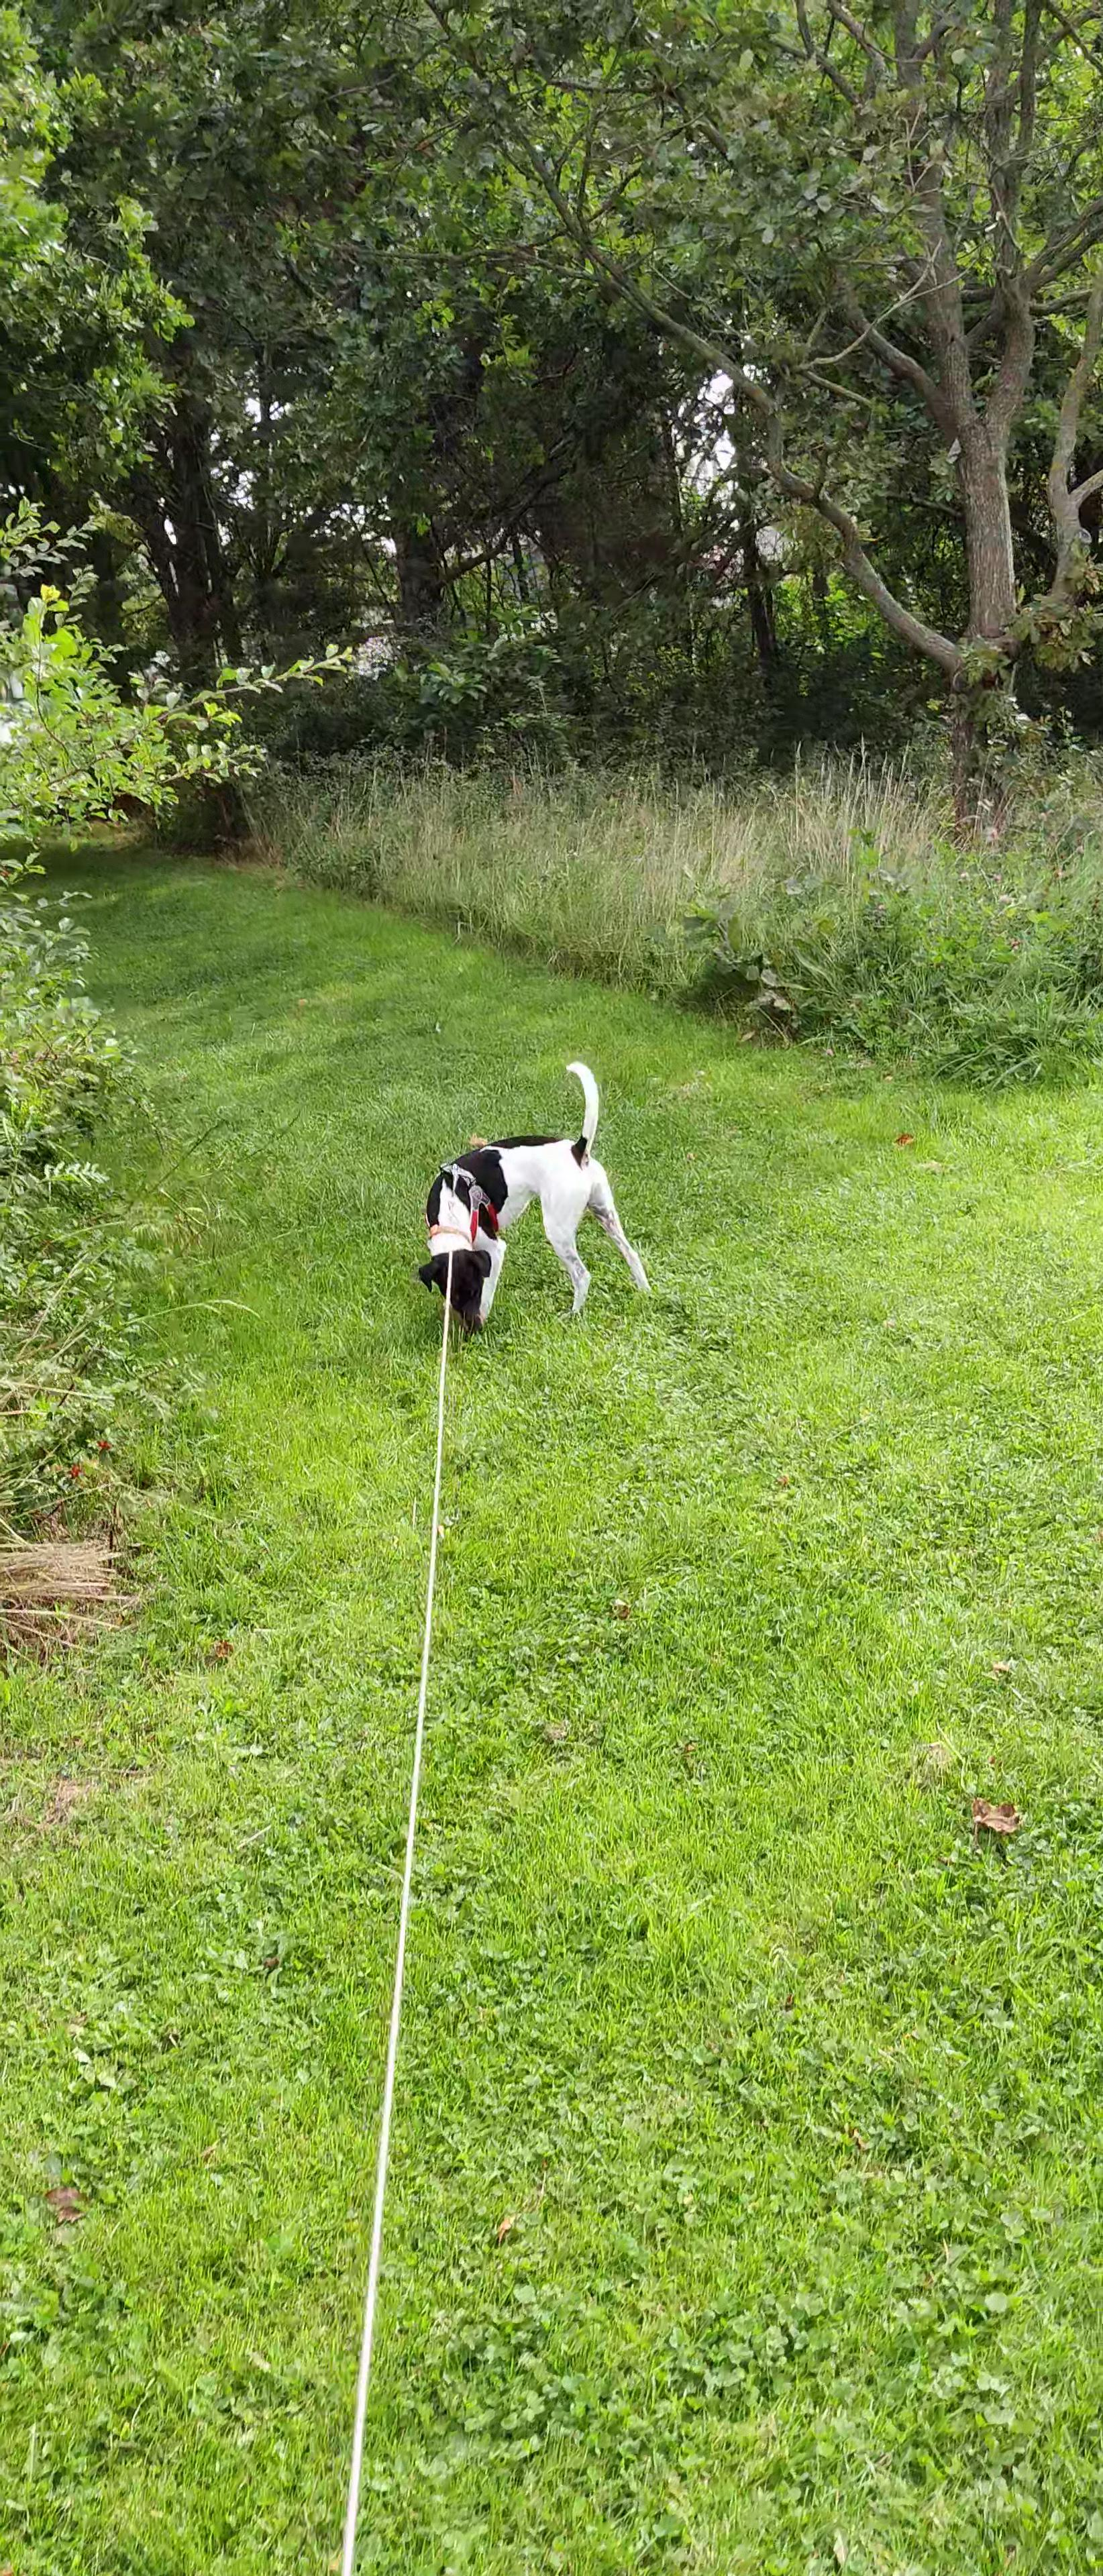Dog: (413, 1058, 658, 1339)
